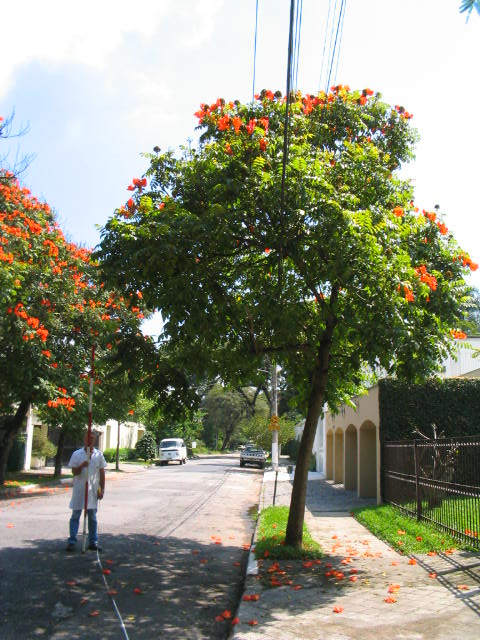crown: (93, 88, 479, 415)
stem: (277, 396, 327, 550)
stick: (74, 344, 103, 554)
tree: (91, 85, 478, 550)
